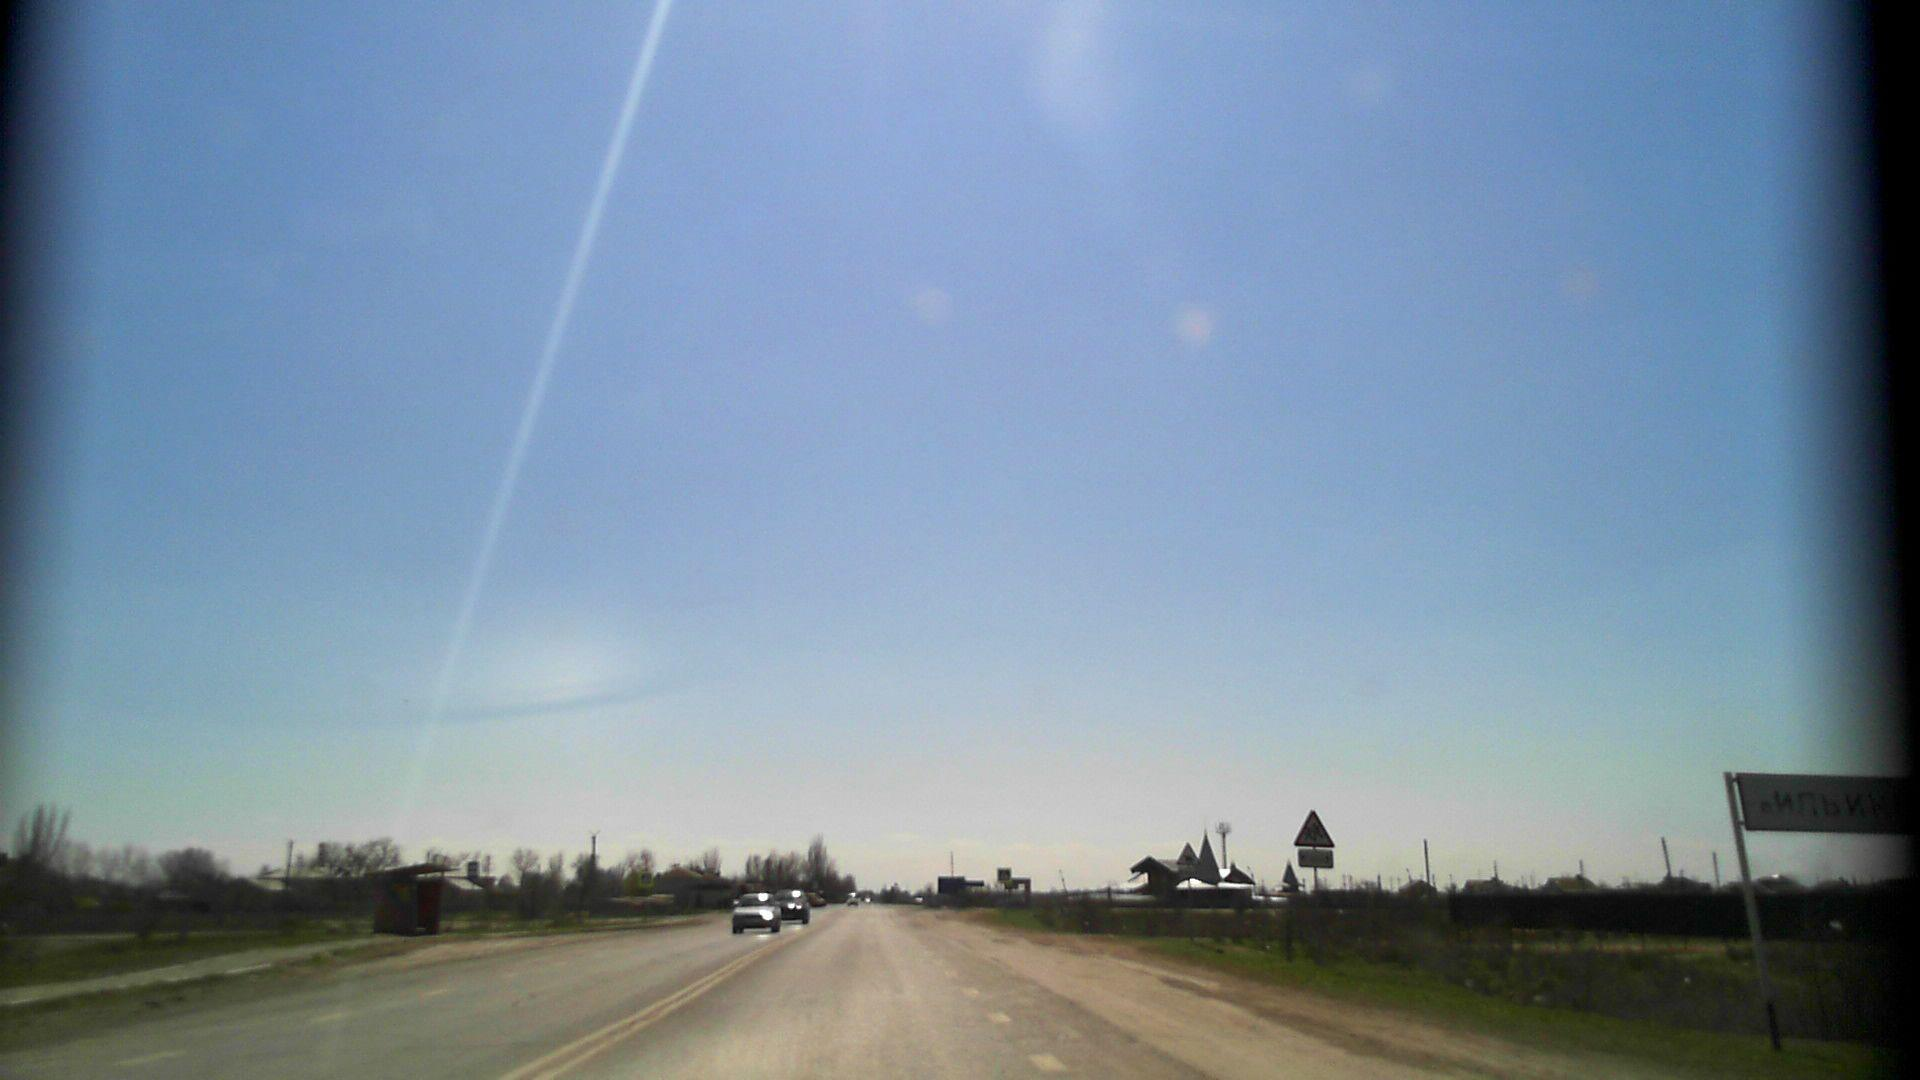1_23: (1294, 808, 1336, 847)
1_26: (1178, 839, 1204, 866)
5_16: (468, 861, 479, 878)
5_19_1: (998, 869, 1011, 881)
5_19_2: (640, 870, 654, 885)
6_10_1: (1725, 765, 1920, 832)
8_2_1: (1298, 849, 1338, 868), (1178, 868, 1201, 878)
